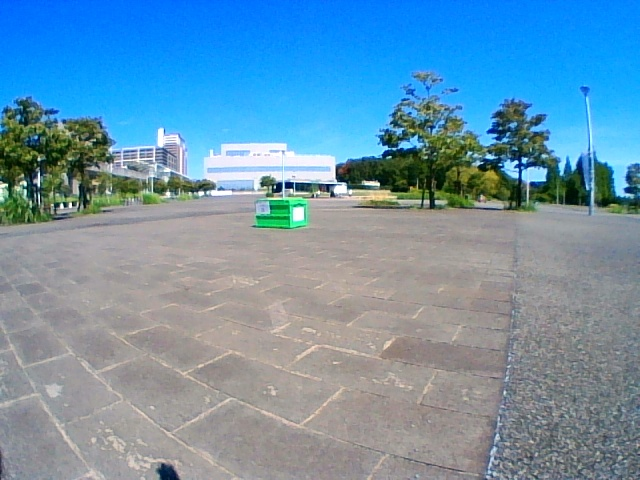green_box: (256, 199, 307, 228)
tag: (256, 202, 269, 213)
